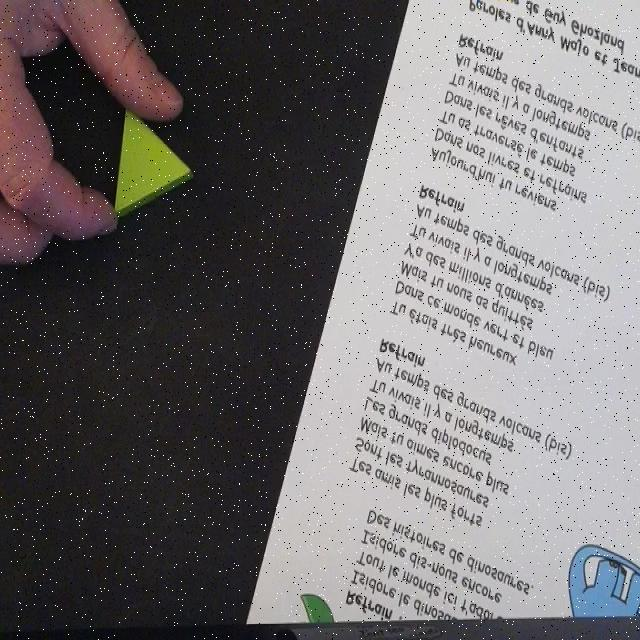triangle: (112, 107, 193, 216)
